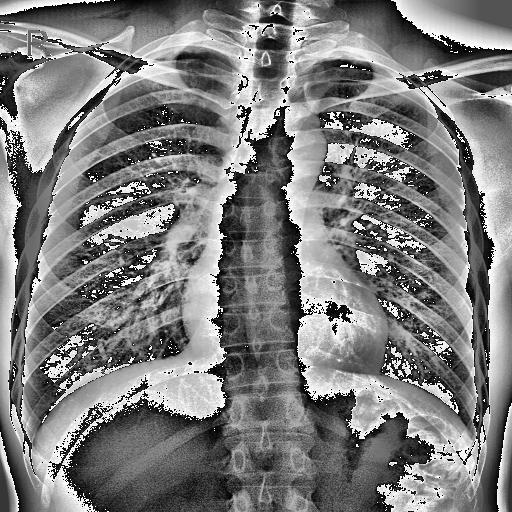11- Pleural thickening: (124, 42, 226, 72), (118, 44, 228, 70), (136, 42, 224, 70), (372, 59, 424, 99), (314, 50, 376, 64)
